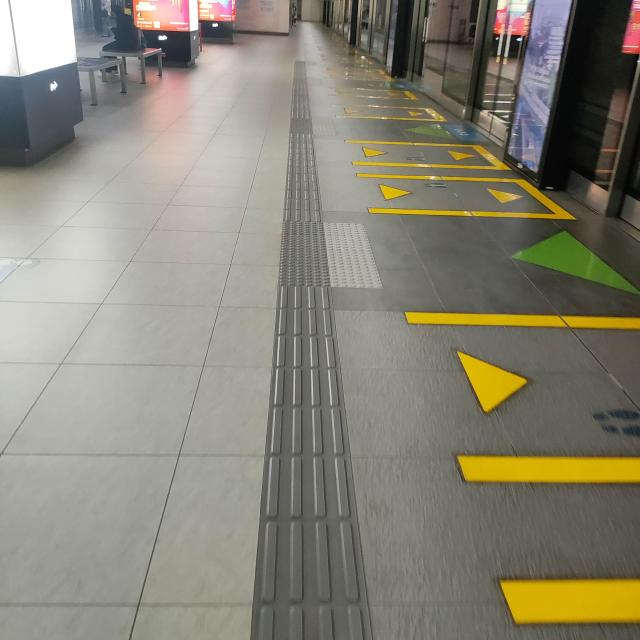lurus: (267, 61, 363, 640)
